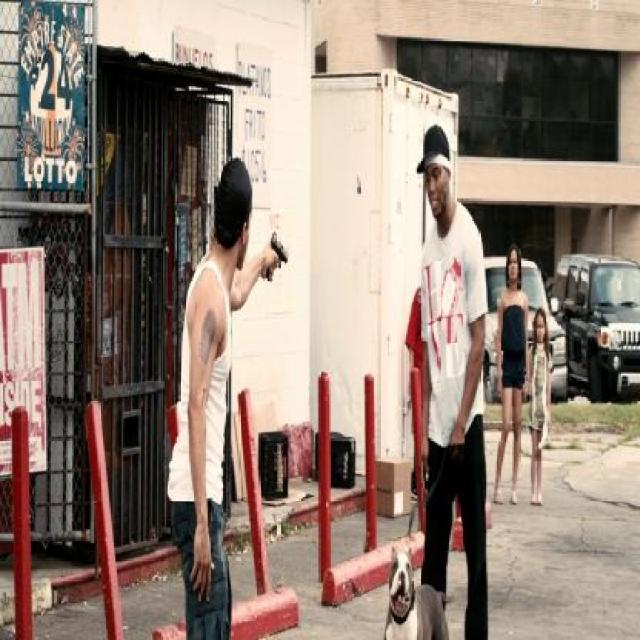gun: (260, 224, 309, 318)
